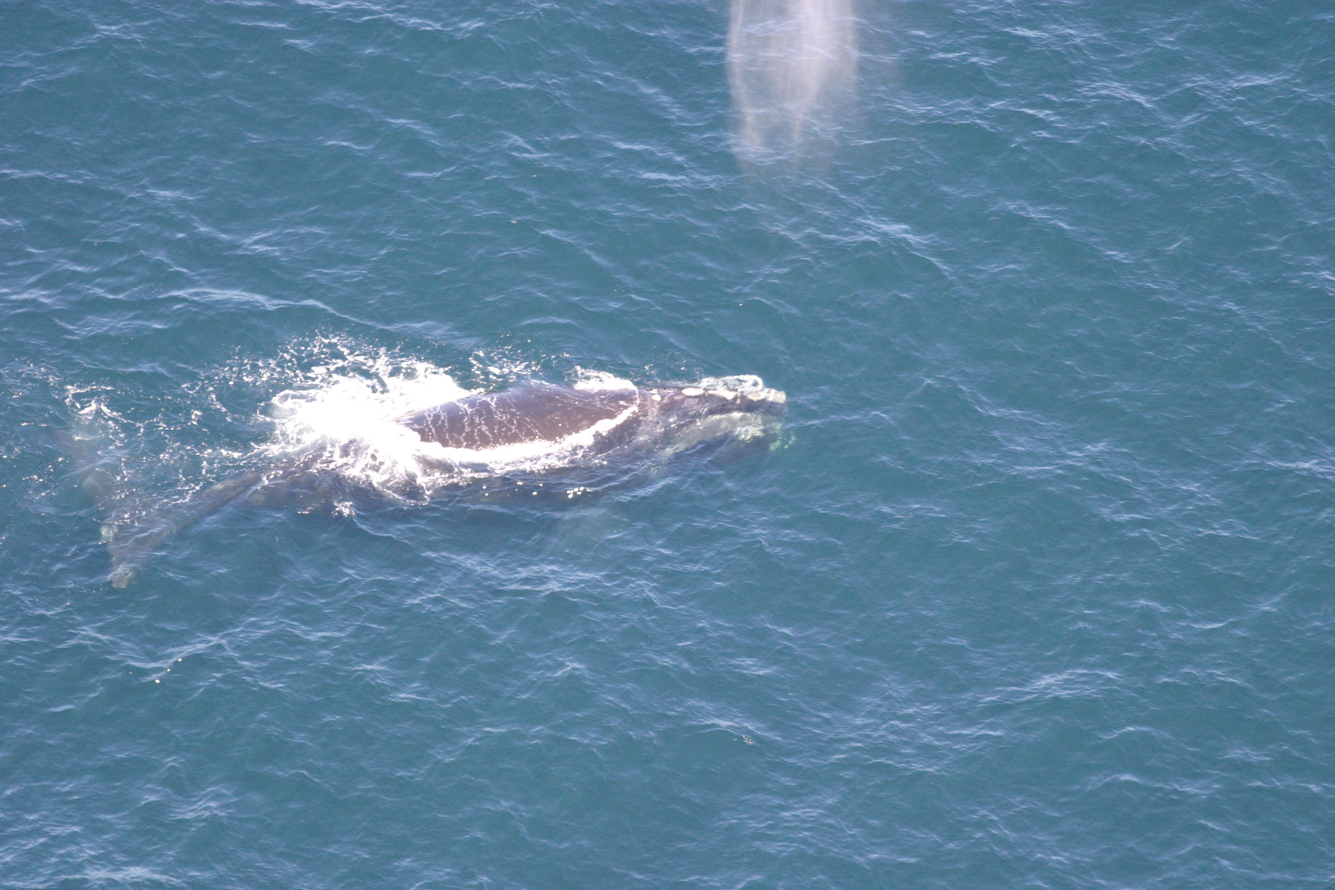whale: (50, 332, 799, 614)
